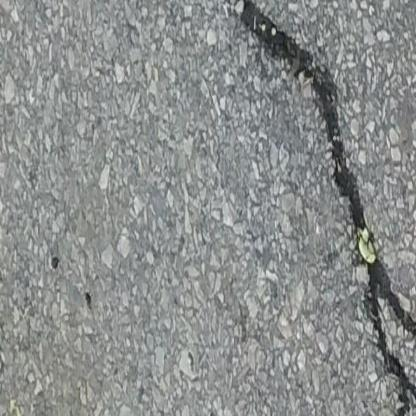Cracks: (229, 0, 416, 416)
